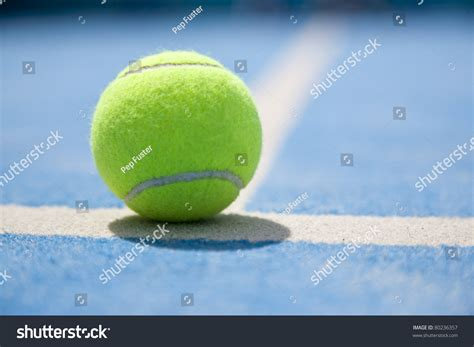tennis_ball: (91, 50, 263, 223)
